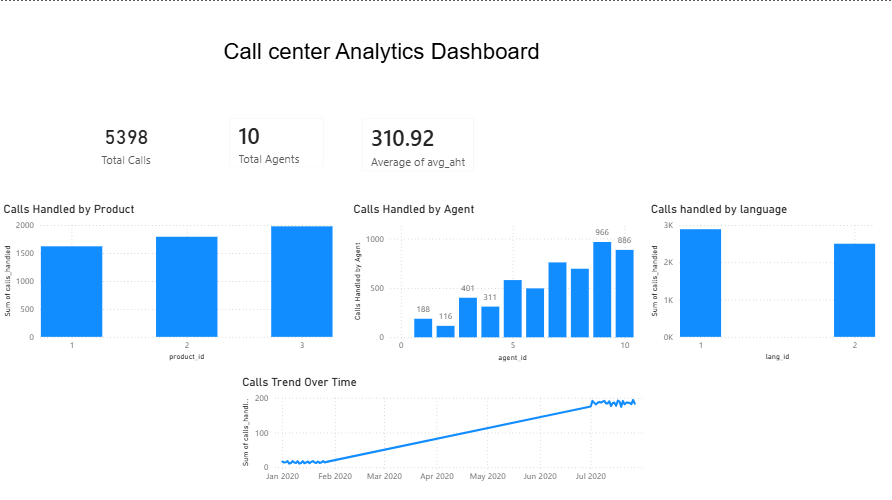

The dashboard page shown, as its layout file describes it:
{"tool":"powerbi","page":{"name":"Page 1","canvas":[1280,720],"ordinal":0},"visuals":[{"type":"card","fields":{"Values":["call_metrics_import.Total Calls"]},"box":[98.6,150.5,164.9,105.7],"z":1},{"type":"cardVisual","fields":{"Data":["Avg(call_metrics_import.avg_aht)"]},"box":[501.8,150.5,195.4,111.1],"z":2},{"type":"cardVisual","fields":{"Data":["Count(call_metrics_import.agent_id)"]},"box":[311.8,150.5,170.3,105.7],"z":3},{"type":"clusteredColumnChart","title":"Calls Handled by Agent","fields":{"Category":["call_metrics_import.agent_id"],"Y":["Sum(call_metrics_import.calls_handled)"]},"box":[502.1,287.7,413.2,233.6],"z":4},{"type":"clusteredColumnChart","title":"Calls Handled by Product","fields":{"Category":["call_metrics_import.product_id"],"Y":["Sum(call_metrics_import.calls_handled)"]},"box":[0,288.5,482.1,233],"z":5},{"type":"clusteredColumnChart","title":"Calls handled by language","fields":{"Category":["call_metrics_import.lang_id"],"Y":["Sum(call_metrics_import.calls_handled)"]},"box":[928.4,288.5,331.6,233],"z":6},{"type":"lineChart","title":"Calls Trend Over Time","fields":{"Y":["Sum(call_metrics_import.calls_handled)"],"Category":["call_metrics_import.date"]},"box":[342.3,535.9,595,163.1],"z":7},{"type":"textbox","box":[315.4,32.3,489.3,78.9],"z":8}]}

Visuals, with their boxes in screenshot pixels (x1, y1, x2, y2), scaled from the page's 1280x720 canvas onto the 892x500 screenshot:
card - call_metrics_import.Total Calls: region(69, 105, 184, 178)
cardVisual - Avg(call_metrics_import.avg_aht): region(350, 105, 486, 182)
cardVisual - Count(call_metrics_import.agent_id): region(217, 105, 336, 178)
"Calls Handled by Agent" clusteredColumnChart: region(350, 200, 638, 362)
"Calls Handled by Product" clusteredColumnChart: region(0, 200, 336, 362)
"Calls handled by language" clusteredColumnChart: region(647, 200, 878, 362)
"Calls Trend Over Time" lineChart: region(239, 372, 653, 485)
textbox: region(220, 22, 561, 77)
